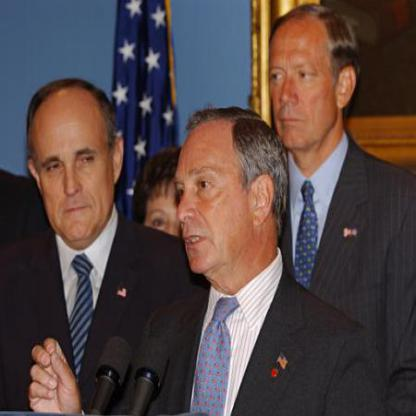face: (161, 117, 258, 278), (36, 84, 114, 245), (265, 10, 341, 153)
